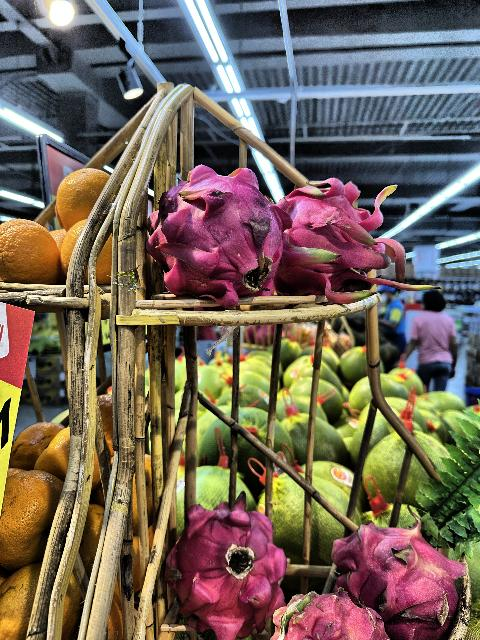buah-naga-matang: (270, 171, 440, 321), (324, 500, 480, 640), (154, 154, 284, 300), (166, 493, 286, 631), (258, 580, 388, 640)
